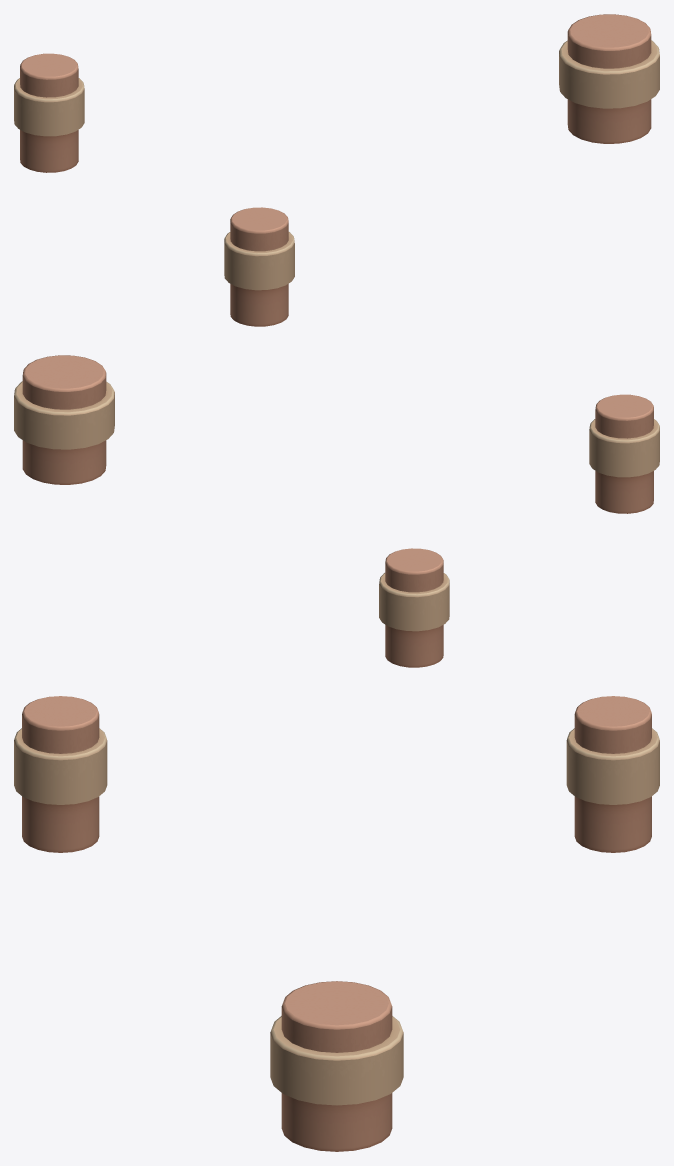
File: Props.fbx
The picture shows the model from 3 angles, top to bottom: view 1: azimuth 30°, elevation 25°; view 2: azimuth 150°, elevation 25°; view 3: azimuth 270°, elevation 25°; orthographic projection. The views are drawn at different scales.
Visible parts, largest first — view 1: Cylinder, Cylinder-2, Cylinder-2 (1); view 2: Cylinder, Cylinder-2 (1), Cylinder-2; view 3: Cylinder, Cylinder-2, Cylinder-2 (1).
Boxes of the visible parts, bbox=[...] form: Cylinder: bbox=[559, 14, 659, 143]; Cylinder-2: bbox=[224, 207, 294, 326]; Cylinder-2 (1): bbox=[14, 53, 84, 172]; Cylinder: bbox=[14, 355, 114, 484]; Cylinder-2 (1): bbox=[379, 548, 449, 667]; Cylinder-2: bbox=[589, 394, 659, 513]; Cylinder: bbox=[270, 981, 403, 1151]; Cylinder-2: bbox=[14, 696, 107, 852]; Cylinder-2 (1): bbox=[566, 696, 659, 852].
Bounding box in the file's own units: 29.1 × 5 × 23.38.
